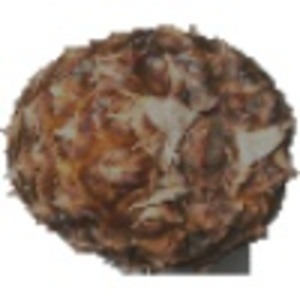abacaxi: (5, 20, 294, 269)
